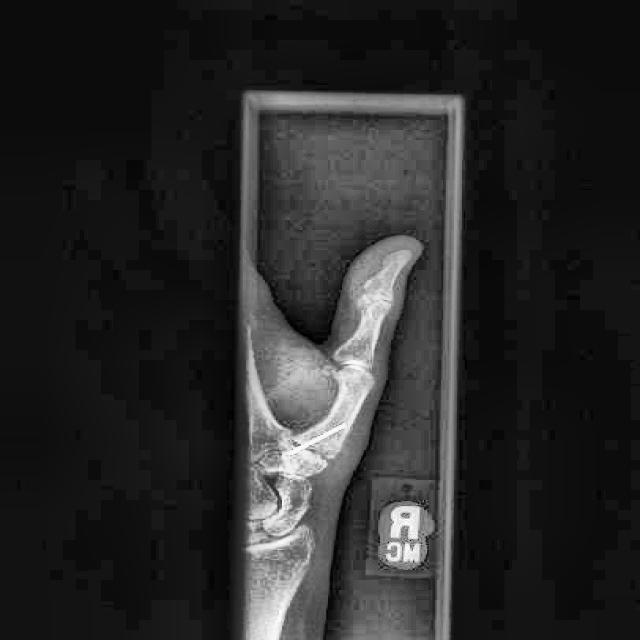fingers positive: (338, 271, 405, 337)
